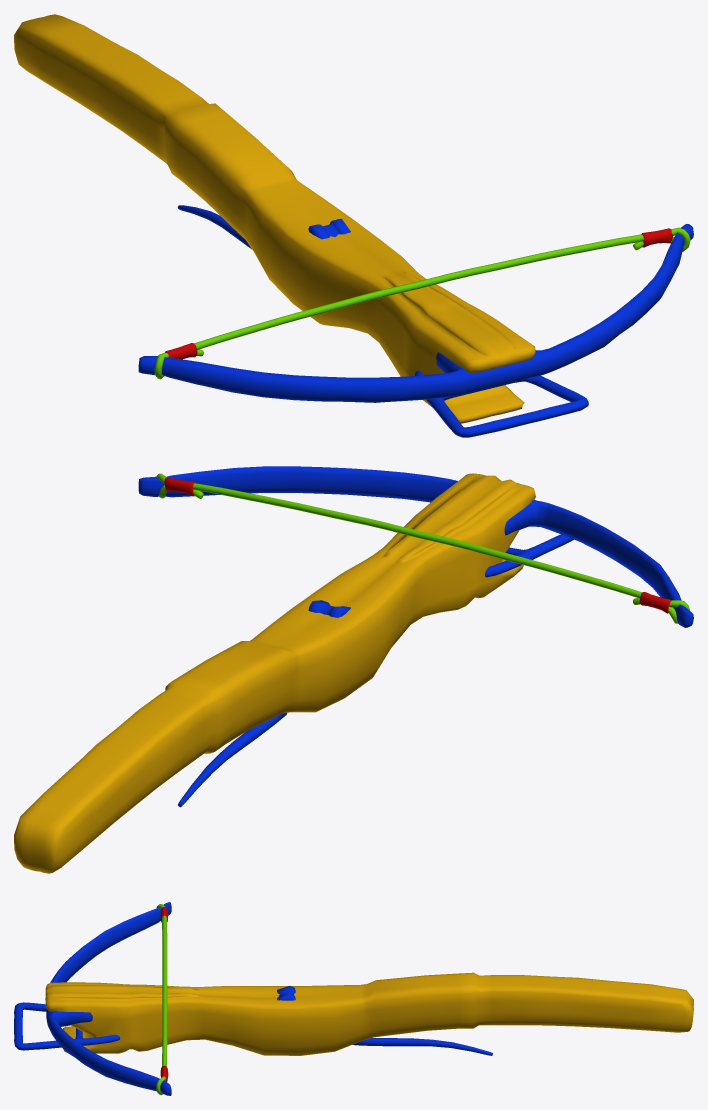
File: Crossbow.fbx
3 views of the same model, one above another, from view 1: azimuth 30°, elevation 25°; view 2: azimuth 150°, elevation 25°; view 3: azimuth 270°, elevation 25° (orthographic). The views are drawn at different scales.
Visible parts, largest first — view 1: Crossbow; view 2: Crossbow; view 3: Crossbow.
Part boxes in pixels (x1,y1,x2,y2): Crossbow: (14,14,693,437); Crossbow: (14,466,693,873); Crossbow: (14,902,693,1095).
Size of the model in its own units: 0.6516 by 0.1258 by 1.01.
